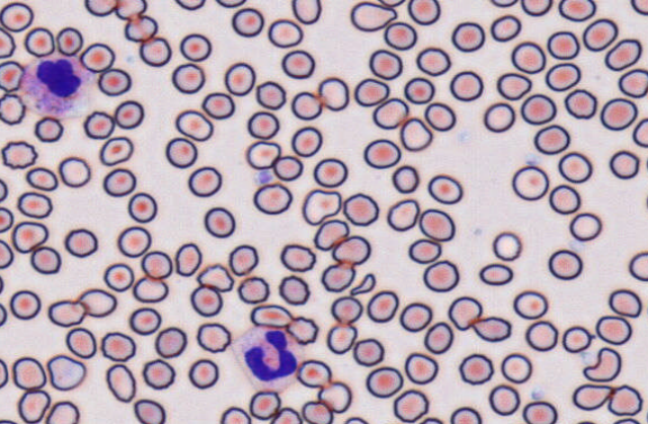GRAN: (234, 324, 307, 391), (19, 55, 90, 118)
PLT: (253, 167, 273, 185)
RBC: (511, 165, 549, 200), (342, 192, 379, 226), (604, 38, 642, 71), (253, 182, 292, 214), (11, 220, 48, 253), (422, 259, 459, 292), (600, 97, 637, 130), (418, 208, 455, 241), (365, 366, 403, 398), (175, 109, 213, 141), (105, 363, 136, 402), (582, 18, 618, 51), (12, 356, 46, 390), (393, 389, 428, 422), (317, 380, 352, 413), (399, 116, 432, 151), (372, 97, 408, 129), (595, 314, 632, 345), (332, 235, 370, 265), (363, 138, 401, 168), (607, 384, 642, 416), (317, 76, 349, 111), (427, 173, 463, 204), (520, 93, 556, 124), (386, 198, 419, 231), (511, 41, 545, 73), (548, 248, 582, 280), (558, 151, 592, 183), (404, 352, 438, 384), (100, 331, 135, 362), (187, 166, 222, 197), (458, 353, 493, 384), (79, 42, 115, 72), (533, 124, 569, 154), (196, 263, 233, 292), (190, 284, 222, 317), (154, 326, 187, 358), (99, 135, 133, 166), (117, 226, 151, 257), (449, 70, 483, 101), (224, 62, 255, 96), (368, 49, 402, 80), (320, 262, 355, 292), (196, 322, 231, 352), (513, 289, 548, 319), (1, 140, 37, 169), (245, 140, 281, 169), (279, 243, 315, 272), (353, 77, 389, 106), (267, 18, 303, 47), (203, 206, 235, 238), (366, 290, 398, 322), (58, 156, 91, 187), (142, 358, 175, 389), (0, 1, 33, 32), (525, 320, 558, 351), (171, 62, 204, 93), (564, 88, 597, 119), (451, 21, 484, 52), (313, 157, 347, 187), (416, 46, 450, 76), (296, 359, 331, 388), (545, 62, 580, 91), (132, 275, 168, 303), (488, 384, 520, 415), (500, 352, 532, 383), (278, 274, 310, 305), (165, 137, 197, 168), (248, 390, 281, 420), (423, 321, 453, 354), (399, 302, 432, 332), (231, 7, 264, 37), (281, 49, 314, 79), (64, 228, 98, 257), (102, 167, 136, 196), (608, 288, 642, 317), (496, 72, 531, 100), (326, 323, 357, 354), (188, 358, 219, 389), (65, 327, 96, 358), (291, 126, 322, 157), (483, 102, 515, 132), (9, 289, 41, 319), (139, 36, 171, 66), (127, 191, 157, 223), (228, 244, 258, 276), (569, 212, 602, 241), (546, 30, 579, 59), (383, 21, 416, 50), (174, 242, 202, 276), (97, 68, 131, 96), (17, 191, 52, 218), (103, 262, 134, 292), (24, 26, 54, 57), (424, 101, 455, 131), (549, 184, 580, 214), (286, 315, 318, 344), (237, 275, 269, 304), (330, 295, 362, 324), (140, 250, 172, 279), (352, 337, 384, 366), (247, 110, 279, 139), (83, 110, 115, 139), (124, 14, 157, 42), (201, 91, 234, 119), (492, 231, 522, 261), (609, 149, 639, 179), (30, 245, 61, 274), (291, 91, 322, 120), (255, 80, 286, 109), (113, 100, 144, 129), (129, 307, 161, 335), (179, 33, 211, 61), (618, 68, 647, 98), (562, 325, 592, 353), (404, 76, 434, 104), (490, 14, 521, 41), (25, 166, 58, 191), (408, 238, 441, 263), (407, 0, 440, 25), (133, 398, 166, 423), (55, 26, 83, 55), (391, 164, 419, 193), (273, 154, 303, 181), (522, 400, 557, 423), (0, 93, 25, 125), (558, 0, 596, 21), (45, 400, 79, 423), (479, 262, 513, 285), (34, 116, 63, 142), (0, 60, 24, 91), (291, 0, 321, 24), (301, 400, 332, 423), (115, 0, 146, 19), (628, 251, 647, 281), (449, 406, 482, 423), (270, 406, 302, 423), (219, 406, 251, 423), (84, 0, 116, 16), (520, 0, 552, 16), (0, 27, 15, 58), (632, 117, 647, 147), (0, 239, 14, 268), (0, 206, 13, 233), (174, 0, 205, 10), (630, 0, 647, 15), (215, 0, 246, 8), (0, 358, 8, 388), (377, 0, 405, 7), (0, 178, 8, 202), (490, 0, 517, 7), (343, 416, 368, 423), (0, 302, 7, 326), (612, 417, 640, 423), (419, 416, 443, 423), (575, 419, 597, 424), (0, 419, 17, 424), (0, 275, 4, 294), (645, 192, 648, 212)
Schistocyte: (579, 345, 624, 383), (48, 354, 88, 391), (302, 189, 344, 224), (350, 2, 397, 32), (569, 384, 617, 411), (448, 295, 483, 331), (314, 219, 351, 251), (473, 315, 514, 343), (248, 304, 295, 328), (47, 300, 87, 328), (80, 289, 118, 317), (350, 273, 377, 297)
